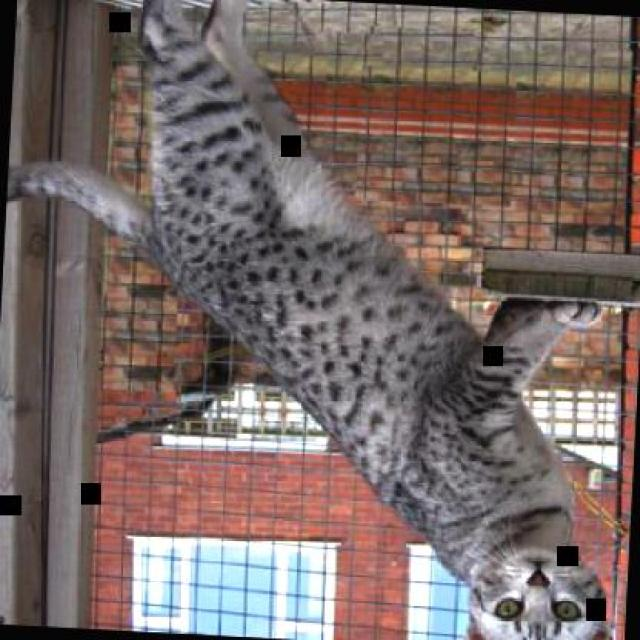cat: (462, 542, 626, 638)
